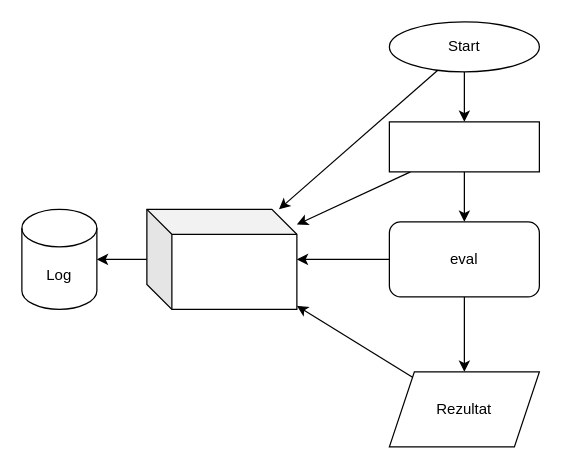
Some shapes in this 561 by 469 pixel diagram are drawn without their labels. The centre of each missing label's shape, as x and y in pixels:
input formula: the point at 463,146
main: the point at 221,258
